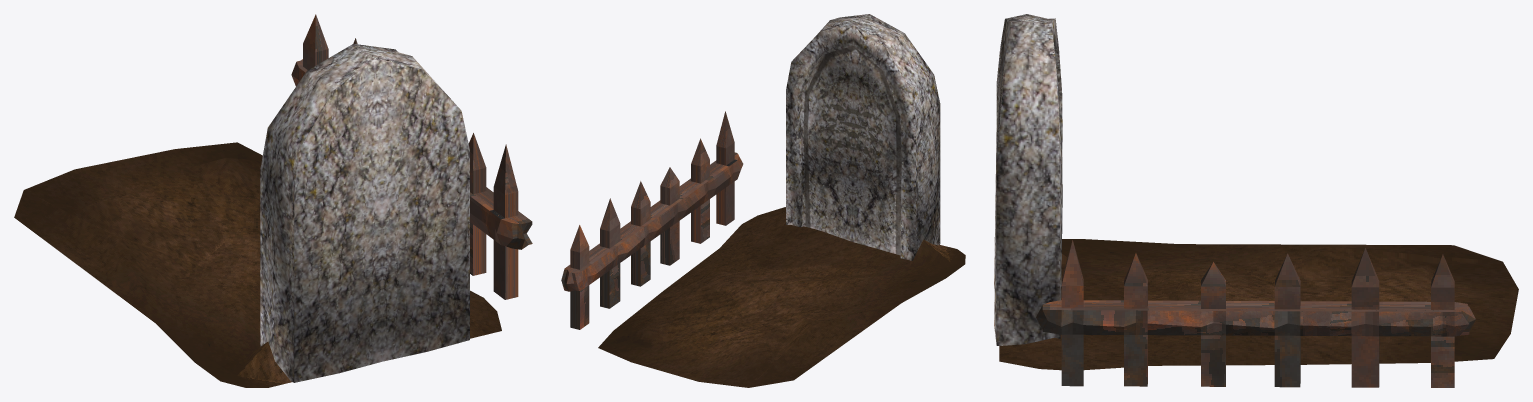
File: grave_with_fence.glb
3 renders of one model, left to right at view 1: azimuth 30°, elevation 25°; view 2: azimuth 150°, elevation 25°; view 3: azimuth 270°, elevation 25°, orthographic. The views are drawn at different scales.
Visible parts, largest first — view 1: metal_fence; view 2: metal_fence; view 3: metal_fence.
Part boxes in pixels (<box>): metal_fence: <box>14,14,532,387</box>; metal_fence: <box>561,14,965,387</box>; metal_fence: <box>994,14,1518,387</box>.
Size of the model in its own units: 2.32 by 2.01 by 3.36.
3 materials, 3 textured.
